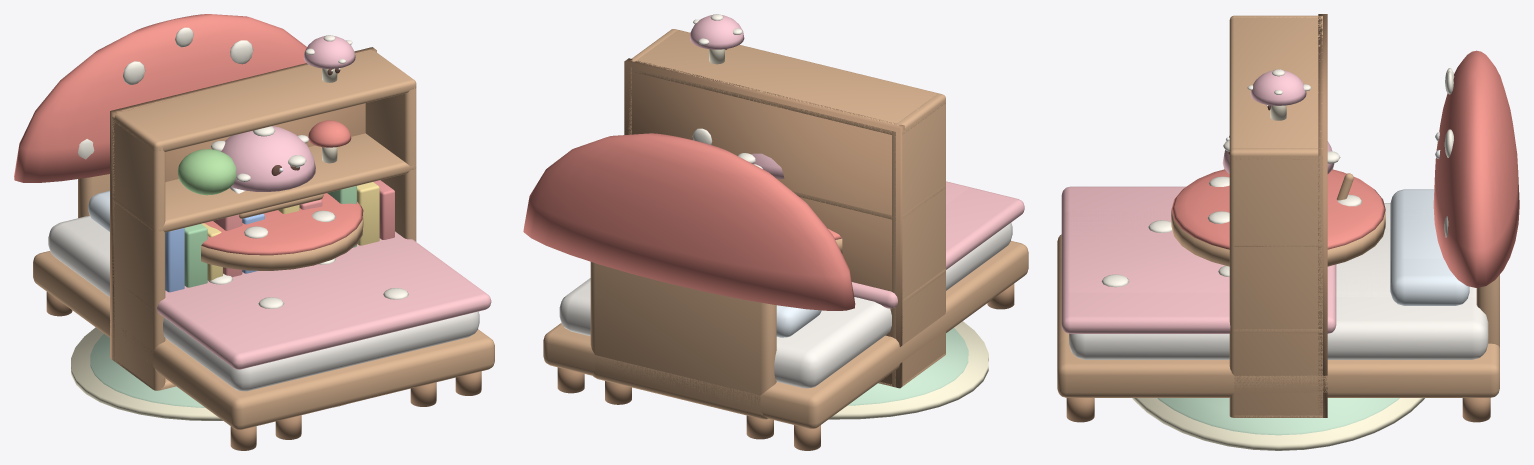
File: furniture.glb
The picture shows the model from 3 angles, left to right: view 1: azimuth 30°, elevation 25°; view 2: azimuth 150°, elevation 25°; view 3: azimuth 270°, elevation 25°; orthographic projection. The views are drawn at different scales.
Parts seen in each view (by area): view 1: MushroomBed, Bookshelf, BasicBed, Table, Rug, Lamp, CatalogBook; view 2: MushroomBed, Bookshelf, BasicBed, Rug, Lamp; view 3: MushroomBed, Bookshelf, BasicBed, Rug, Table.
Part boxes in pixels (x1,y1,x2,y2): MushroomBed: [14, 14, 494, 450]; Bookshelf: [110, 35, 416, 390]; BasicBed: [78, 174, 445, 439]; Table: [201, 193, 363, 270]; Rug: [71, 327, 343, 420]; Lamp: [210, 126, 315, 191]; CatalogBook: [230, 187, 323, 218]; MushroomBed: [523, 128, 1028, 450]; Bookshelf: [624, 14, 945, 388]; BasicBed: [590, 181, 970, 439]; Rug: [828, 321, 988, 419]; Lamp: [738, 153, 784, 178]; MushroomBed: [1057, 50, 1519, 422]; Bookshelf: [1229, 14, 1327, 417]; BasicBed: [1057, 207, 1499, 347]; Rug: [1132, 398, 1424, 450]; Table: [1171, 169, 1385, 266].
Bounding box in the file's own units: 1.9 × 1.54 × 1.98.
